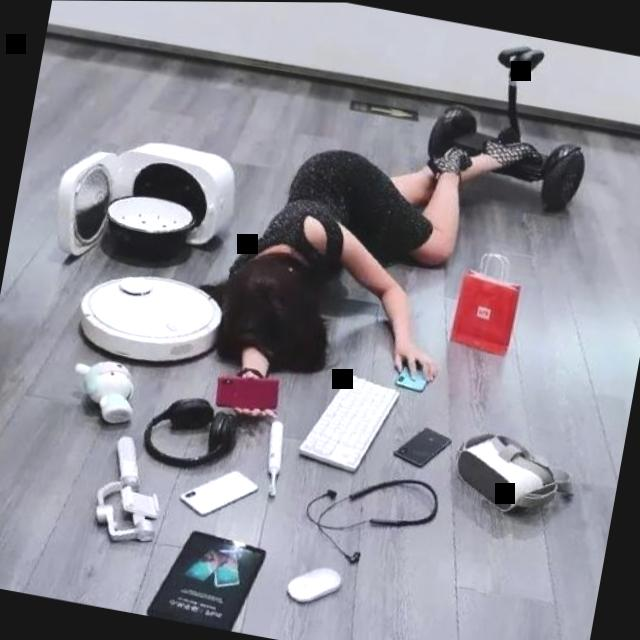Fall-Detected: (165, 50, 593, 491)
